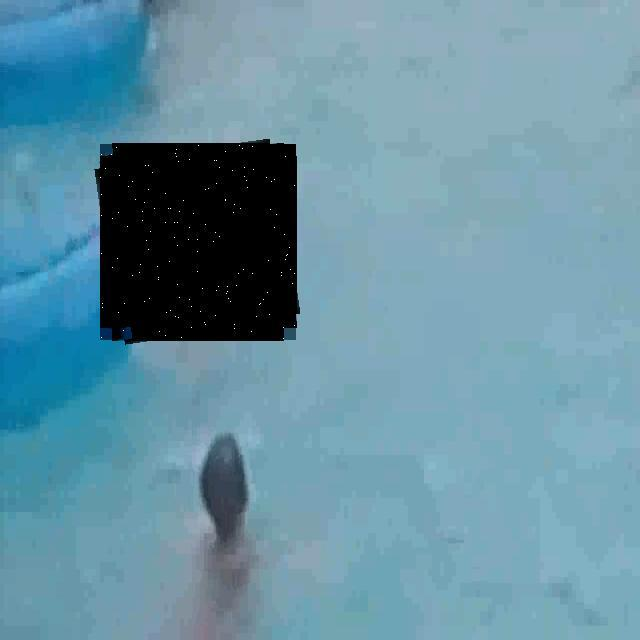Out of Water: (100, 144, 296, 340)
